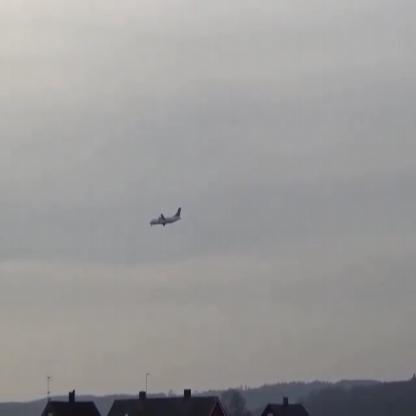CIV_Plane: (148, 206, 182, 228)
